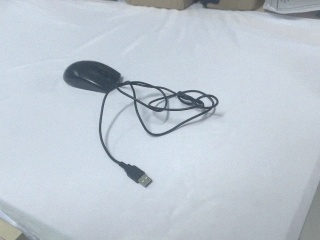mouse: (63, 59, 123, 94)
